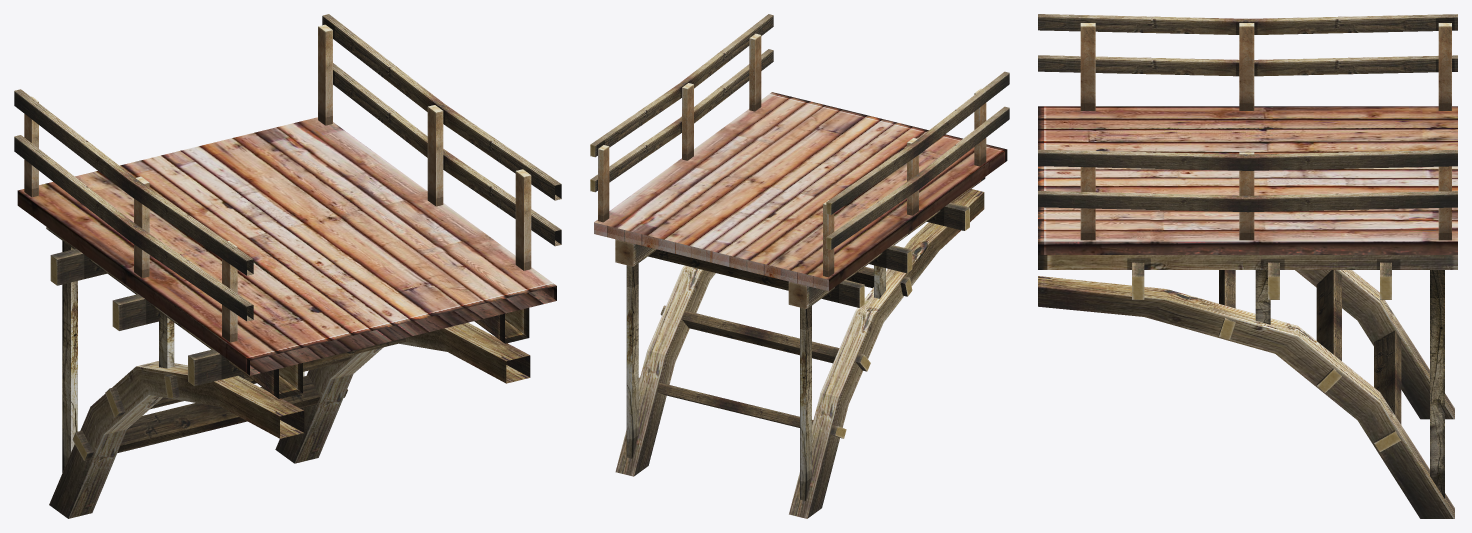
File: wooden_bridge_end_01.fbx
The picture shows the model from 3 angles, left to right: view 1: azimuth 30°, elevation 25°; view 2: azimuth 150°, elevation 25°; view 3: azimuth 270°, elevation 25°; orthographic projection. The views are drawn at different scales.
Visible parts, largest first — view 1: wooden_bridge_end_01; view 2: wooden_bridge_end_01; view 3: wooden_bridge_end_01.
Boxes of the visible parts, x1,y1,x2,y2 form: wooden_bridge_end_01: (14, 14, 561, 518); wooden_bridge_end_01: (590, 14, 1009, 518); wooden_bridge_end_01: (1038, 14, 1457, 518).
Size of the model in its own units: 2.51 by 3.21 by 3.21.
